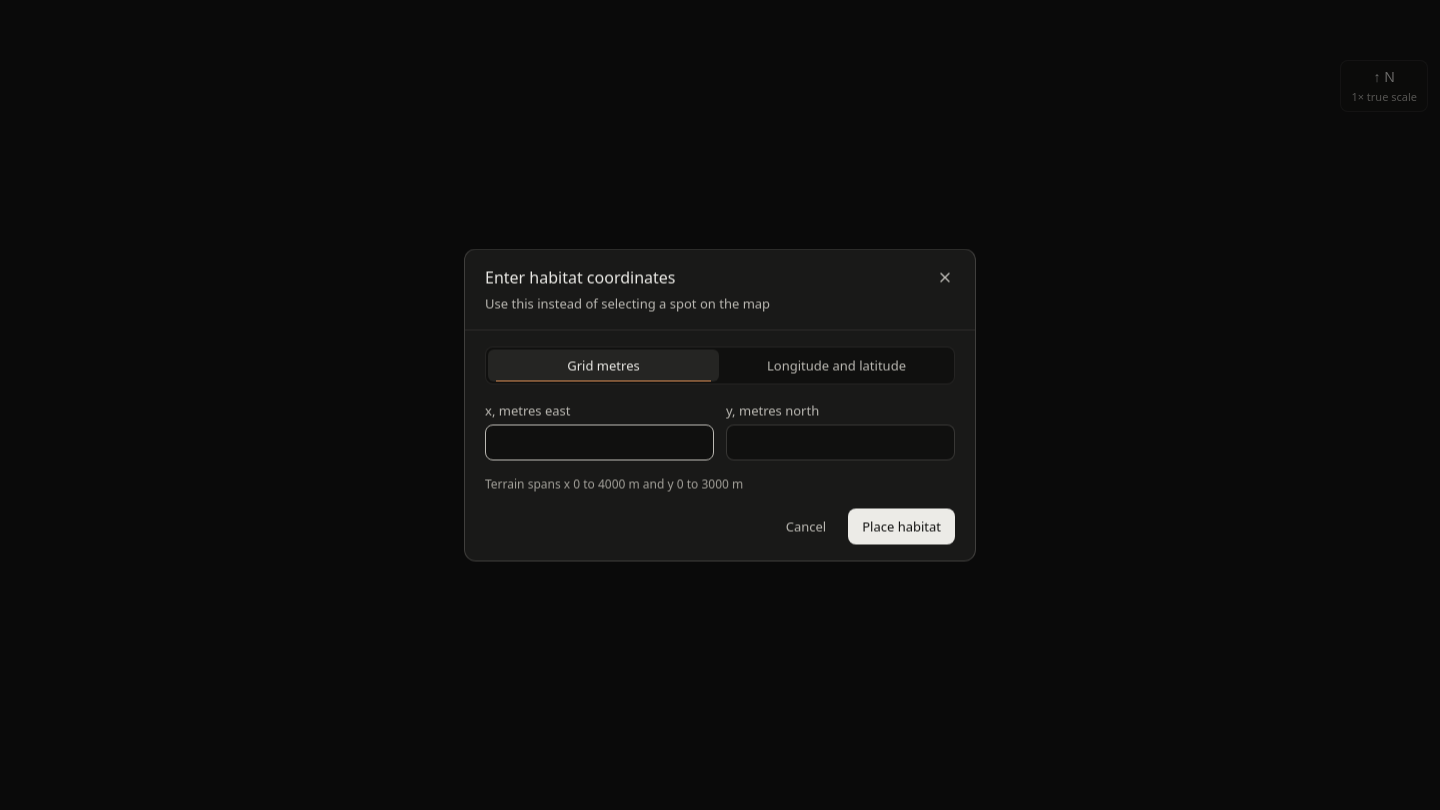
Test: shared 2D/3D controls › uses the existing coordinate-entry rejection and explicit snap confirmation in 3D
Later steps or results of the test are not shown.
Type "-30" into the field labelled "x, metres east" at (600,442), box [485, 424, 714, 460]
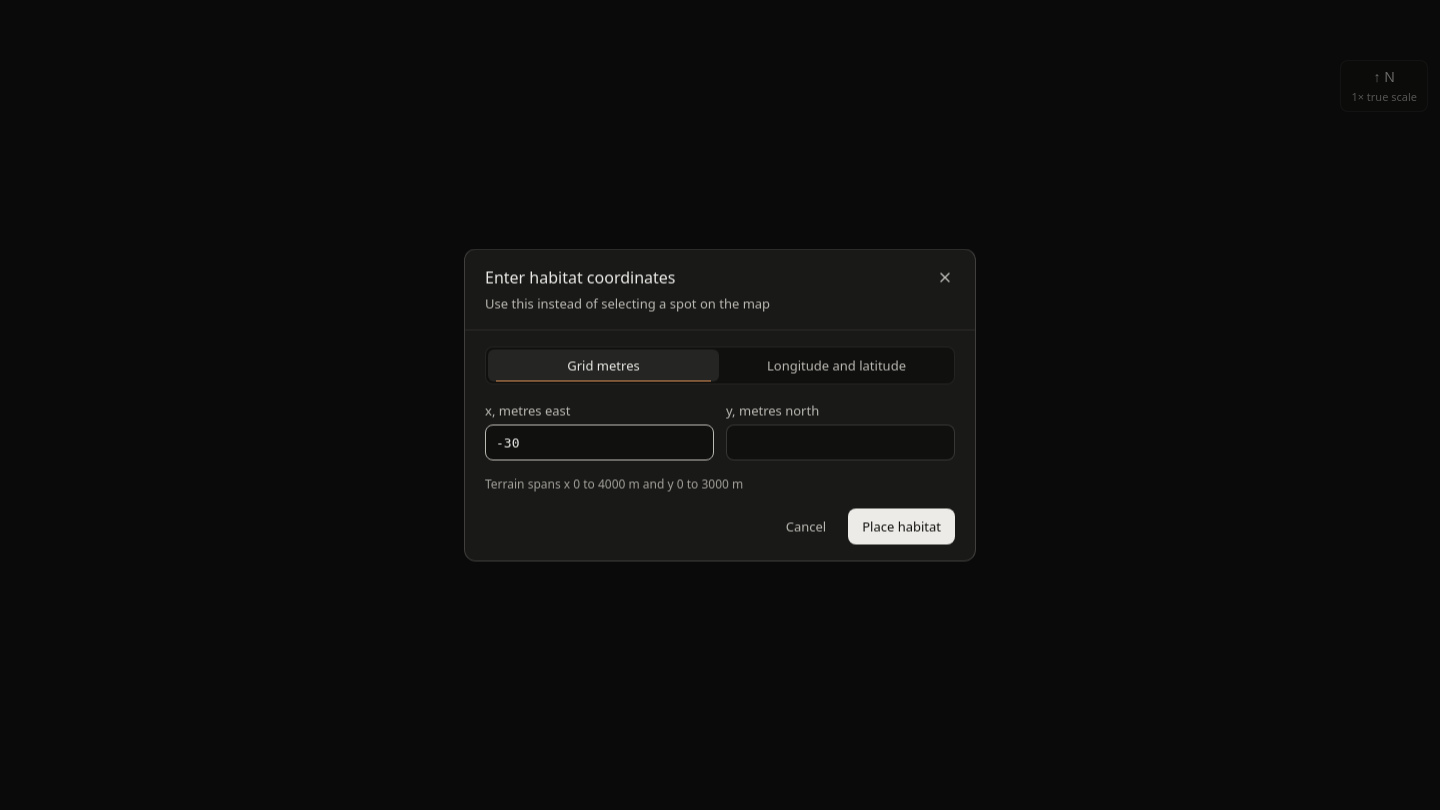
Type "1500" into the field labelled "y, metres north" at (840,442), box [726, 424, 955, 460]
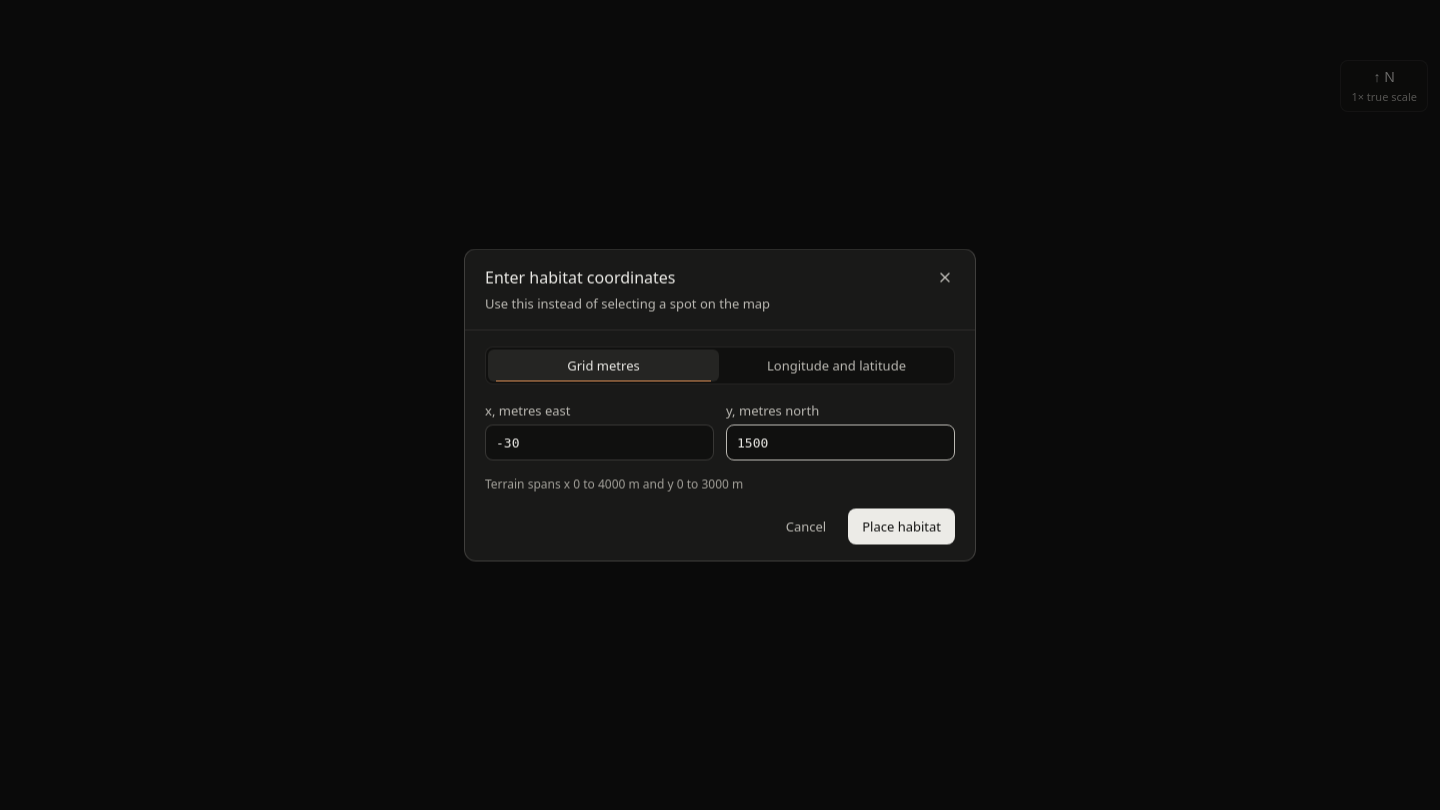
Click the button "Place habitat" at (902,526), box [848, 508, 955, 544]
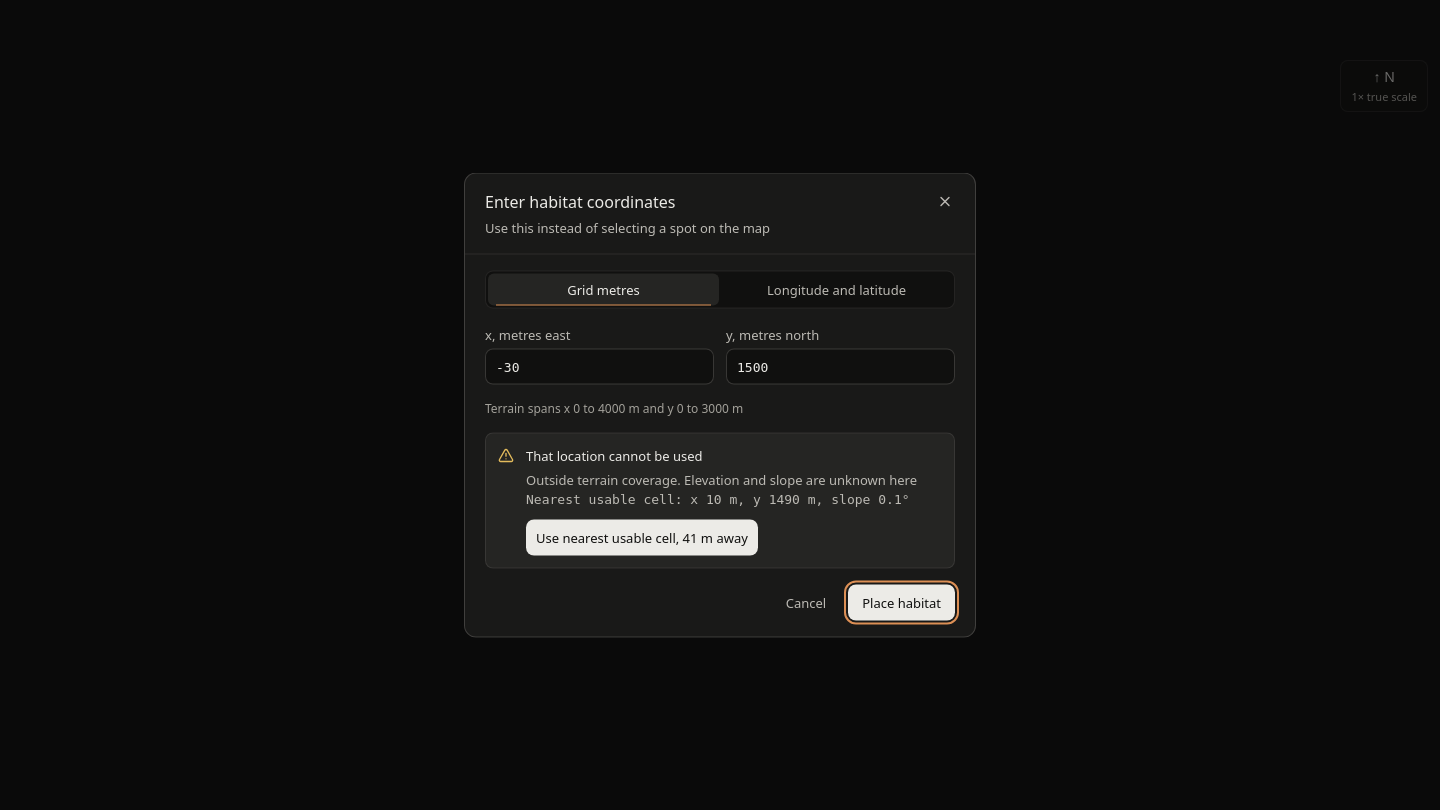
Now the text "That location cannot be used" is shown, box [525, 446, 702, 464]
